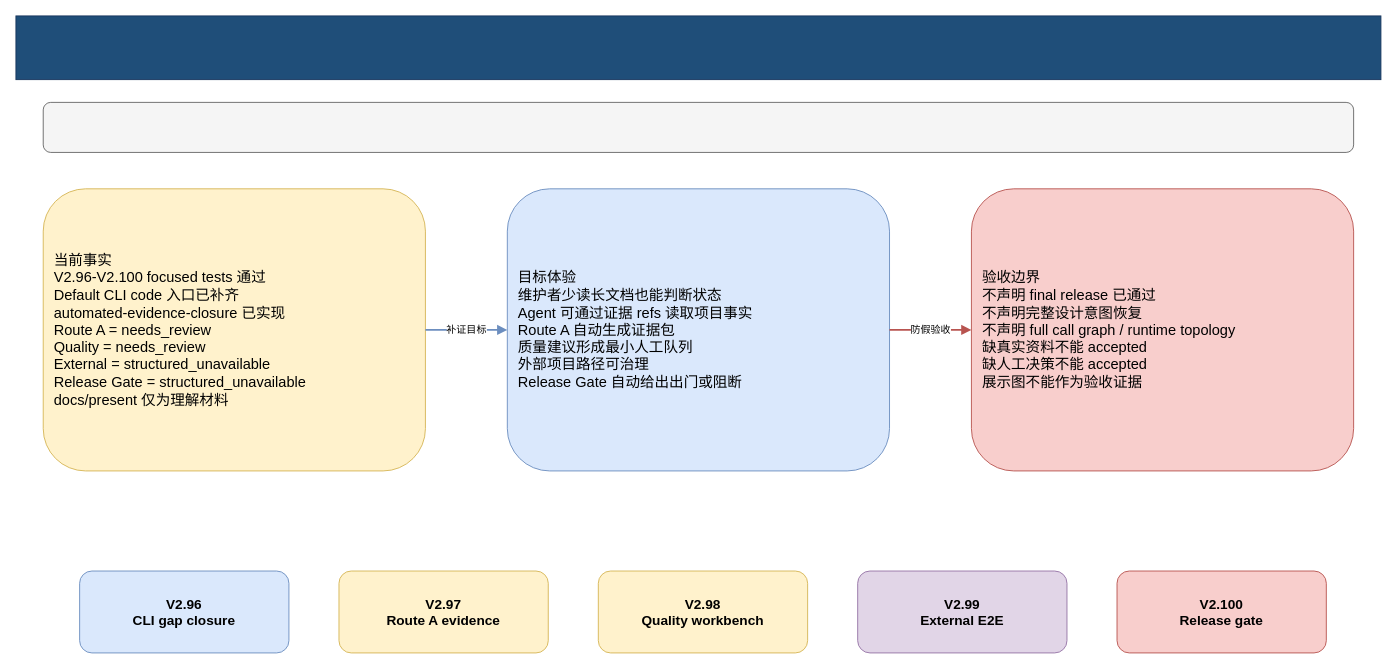
This 1397x669 diagram has some shape labels left out. Each missing label, with the centre of its shape:
V2.96-V2.100 阶段目标：少人工真实验收与出门证据闭环: the point at 698,47
颜色：绿色=已实现并测试；蓝色=已实现的新阶段实体；黄色=受限完成 / 需人工最小确认；红色=阻断或禁止；灰色=外部环境 / 展示材料: the point at 698,126
